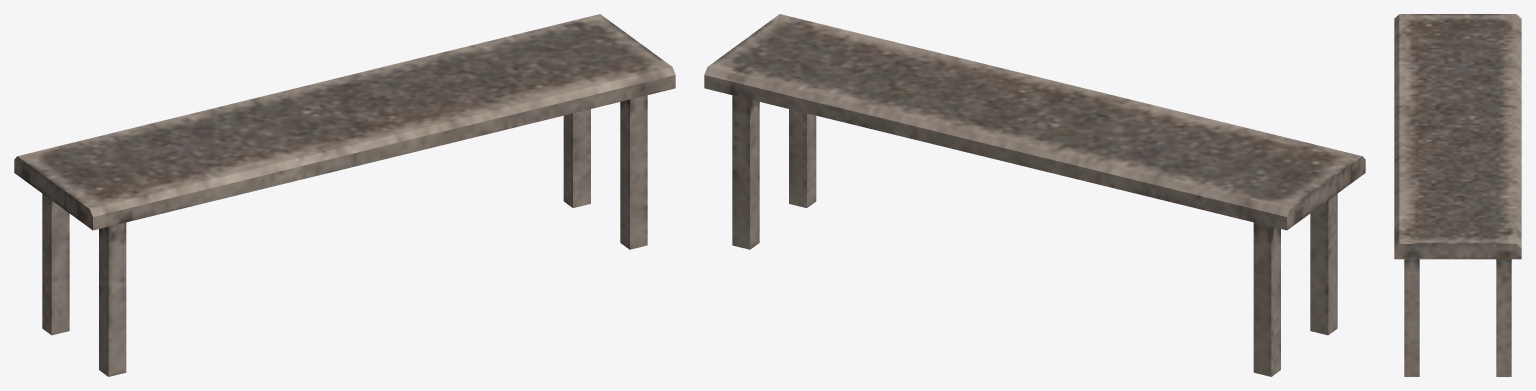
The model's file is bench1.glb.
3 views of the same model, side by side, from view 1: azimuth 30°, elevation 25°; view 2: azimuth 150°, elevation 25°; view 3: azimuth 270°, elevation 25° (orthographic). The views are drawn at different scales.
Parts seen in each view (by area): view 1: Bench; view 2: Bench; view 3: Bench.
Part boxes in pixels (x1=…): Bench: x1=14, y1=14, x2=675, y2=376; Bench: x1=704, y1=14, x2=1365, y2=376; Bench: x1=1394, y1=14, x2=1521, y2=376.
Bounding box in the file's own units: 2.92 × 0.8386 × 0.6822.
Materials: 1 (1 with a texture image).
